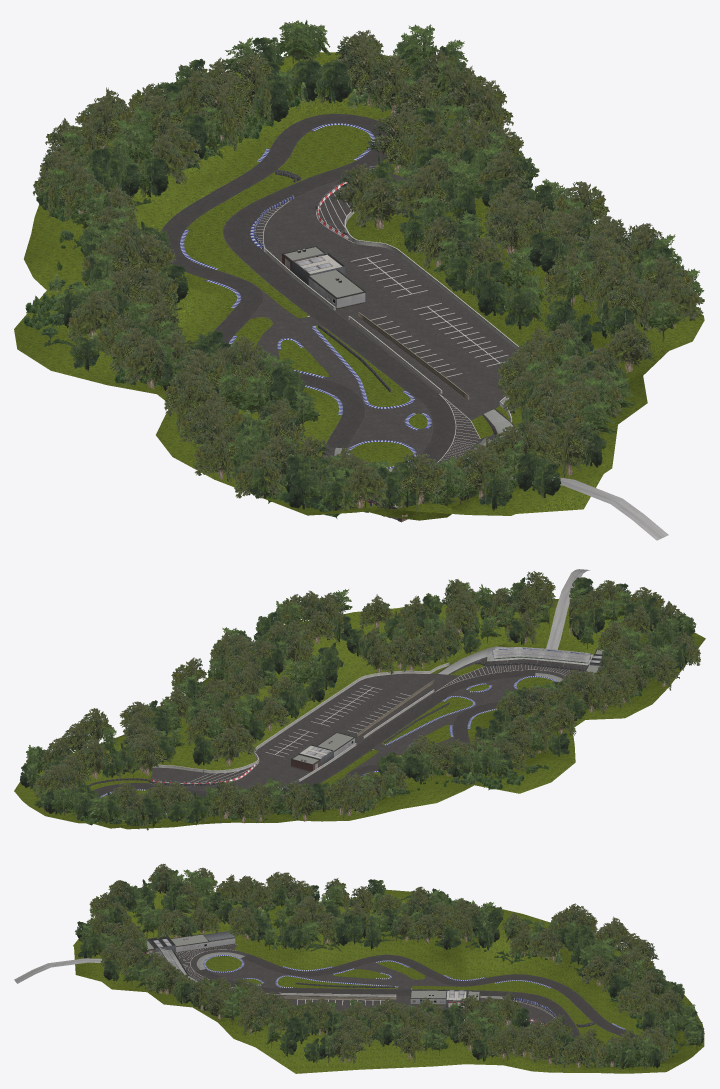
File: meihancircuit.glb
3 views of the same model, one above another, from view 1: azimuth 30°, elevation 25°; view 2: azimuth 150°, elevation 25°; view 3: azimuth 270°, elevation 25° (orthographic). The views are drawn at different scales.
Visible parts, largest first — view 1: meihancircuit; view 2: meihancircuit; view 3: meihancircuit.
Boxes of the visible parts, x1,y1,x2,y2 form: meihancircuit: [14, 20, 704, 540]; meihancircuit: [14, 569, 705, 830]; meihancircuit: [14, 863, 704, 1073].
Size of the model in its own units: 217 by 31.17 by 352.
Materials: 36 (36 with a texture image).
